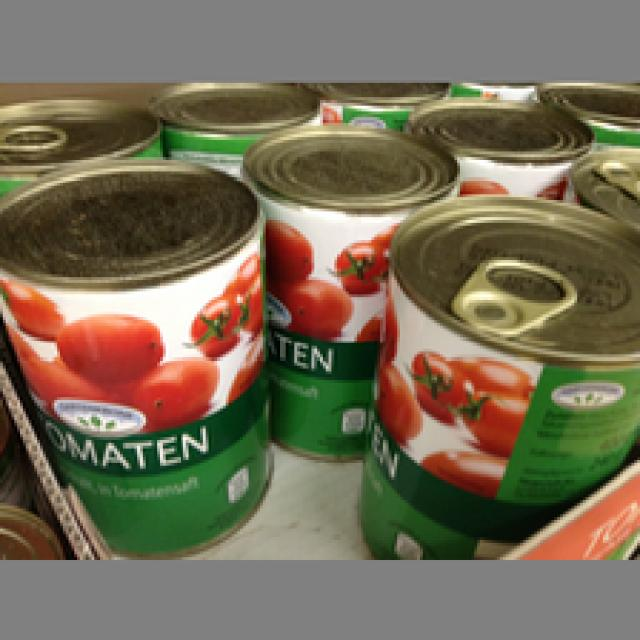groceries: (0, 154, 274, 557), (352, 192, 637, 557), (240, 123, 451, 451)
